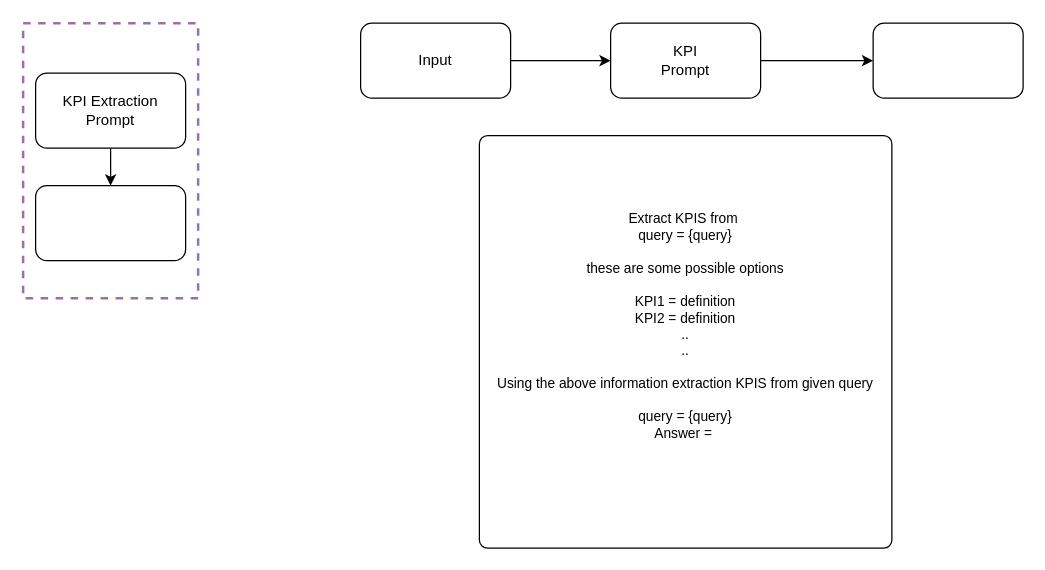
Image size: 1045x570. Some labels were removed from this diagram. The centre of each missing label's shape, as x and y in pixels:
"Extracted KPI" goes at [947,60].
"KPIs Extracted KPI to Data Mapping" goes at [110,222].
